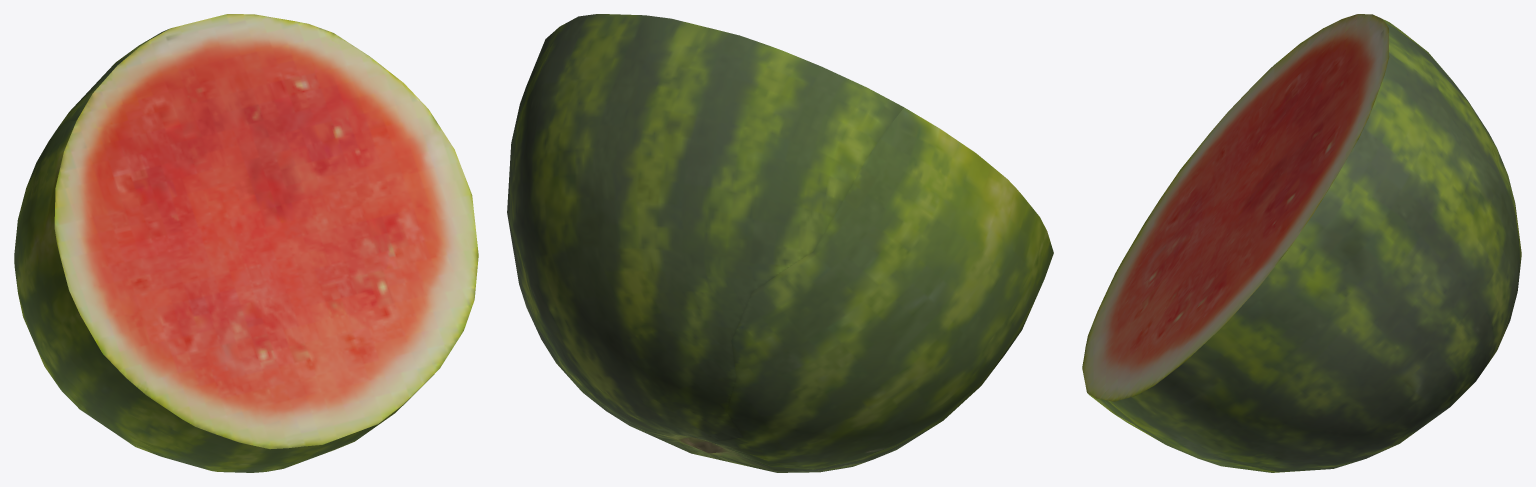
The model's file is WatermelonHalf.glb.
3 views of the same model, side by side, from view 1: azimuth 30°, elevation 25°; view 2: azimuth 150°, elevation 25°; view 3: azimuth 270°, elevation 25° (orthographic). The views are drawn at different scales.
Visible parts, largest first — view 1: xigua; view 2: xigua; view 3: xigua.
Part boxes in pixels (<box>): xigua: <box>14,14,478,472</box>; xigua: <box>507,14,1053,472</box>; xigua: <box>1082,14,1521,472</box>.
Size of the model in its own units: 1.83 by 1.68 by 1.61.
Materials: 1 (1 with a texture image).
